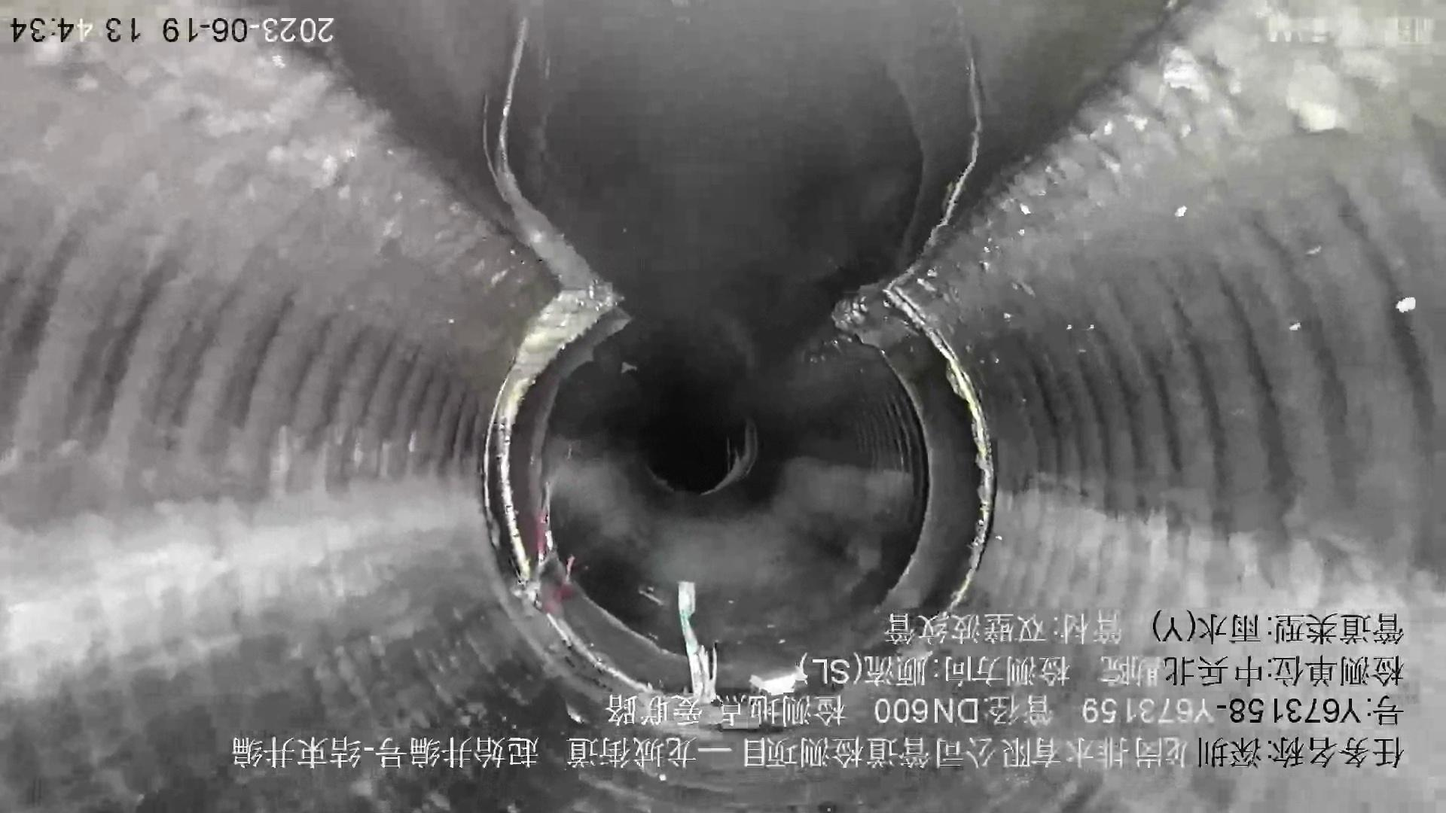JKCL: (445, 367, 835, 729)
